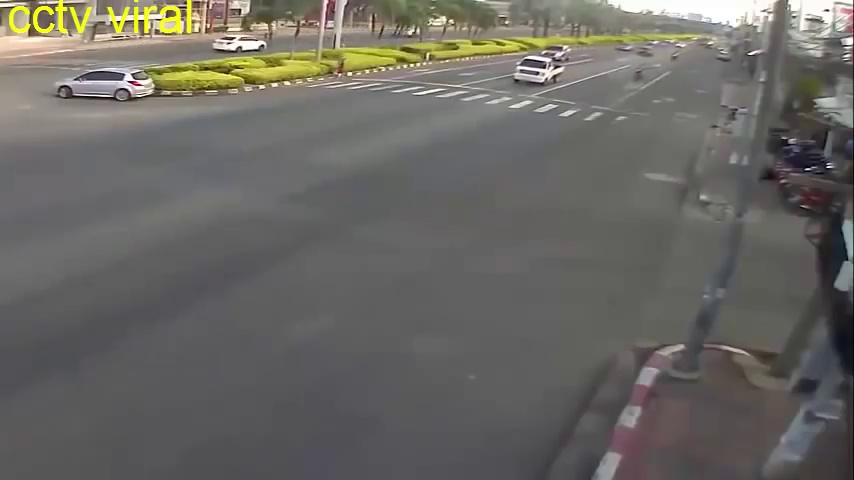car: (57, 66, 155, 102), (516, 53, 561, 84), (214, 32, 265, 52), (543, 43, 571, 64)
